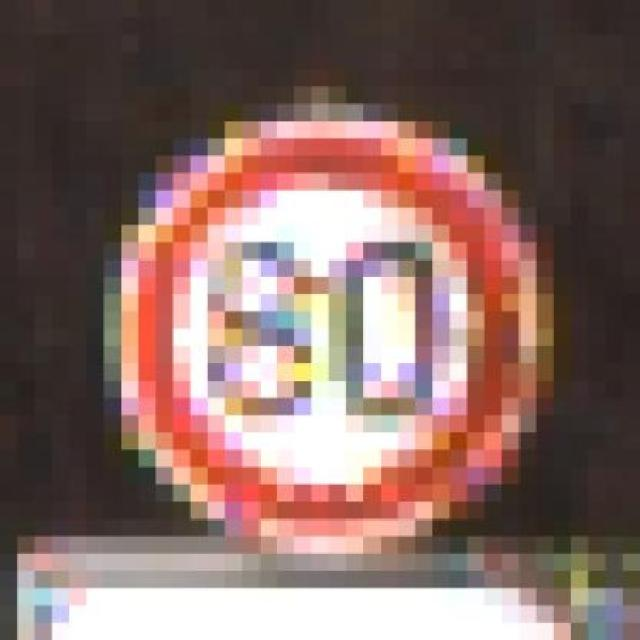forb_speed_over_80: (123, 126, 534, 540)
